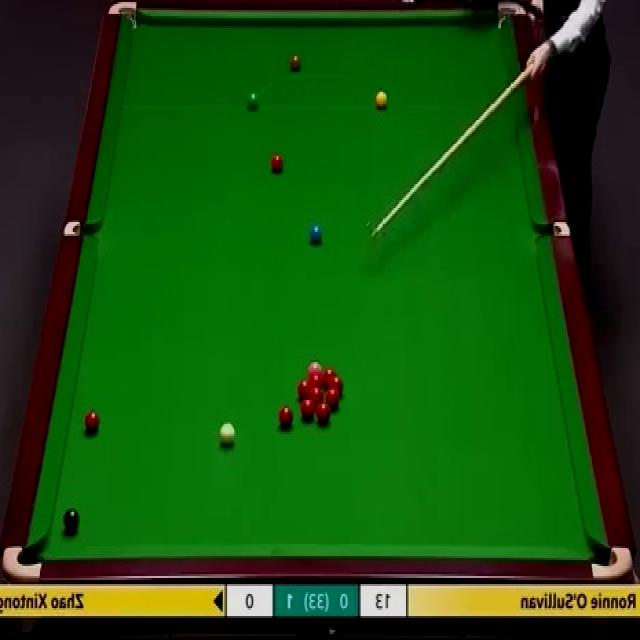pocket: (3, 537, 44, 585), (589, 542, 633, 582), (104, 2, 138, 28), (538, 219, 566, 243), (65, 220, 98, 238), (498, 1, 522, 25)
